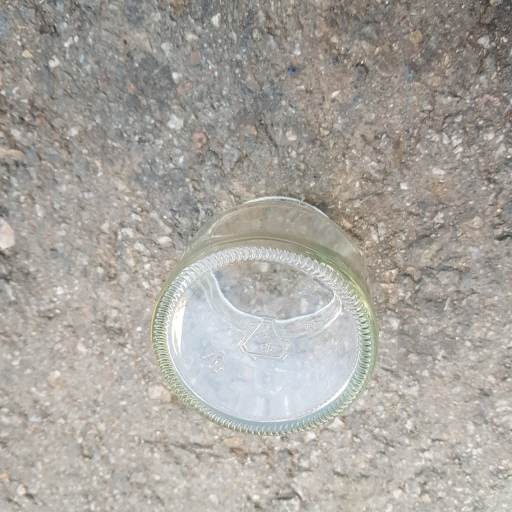Glass_5: (147, 186, 378, 436)
